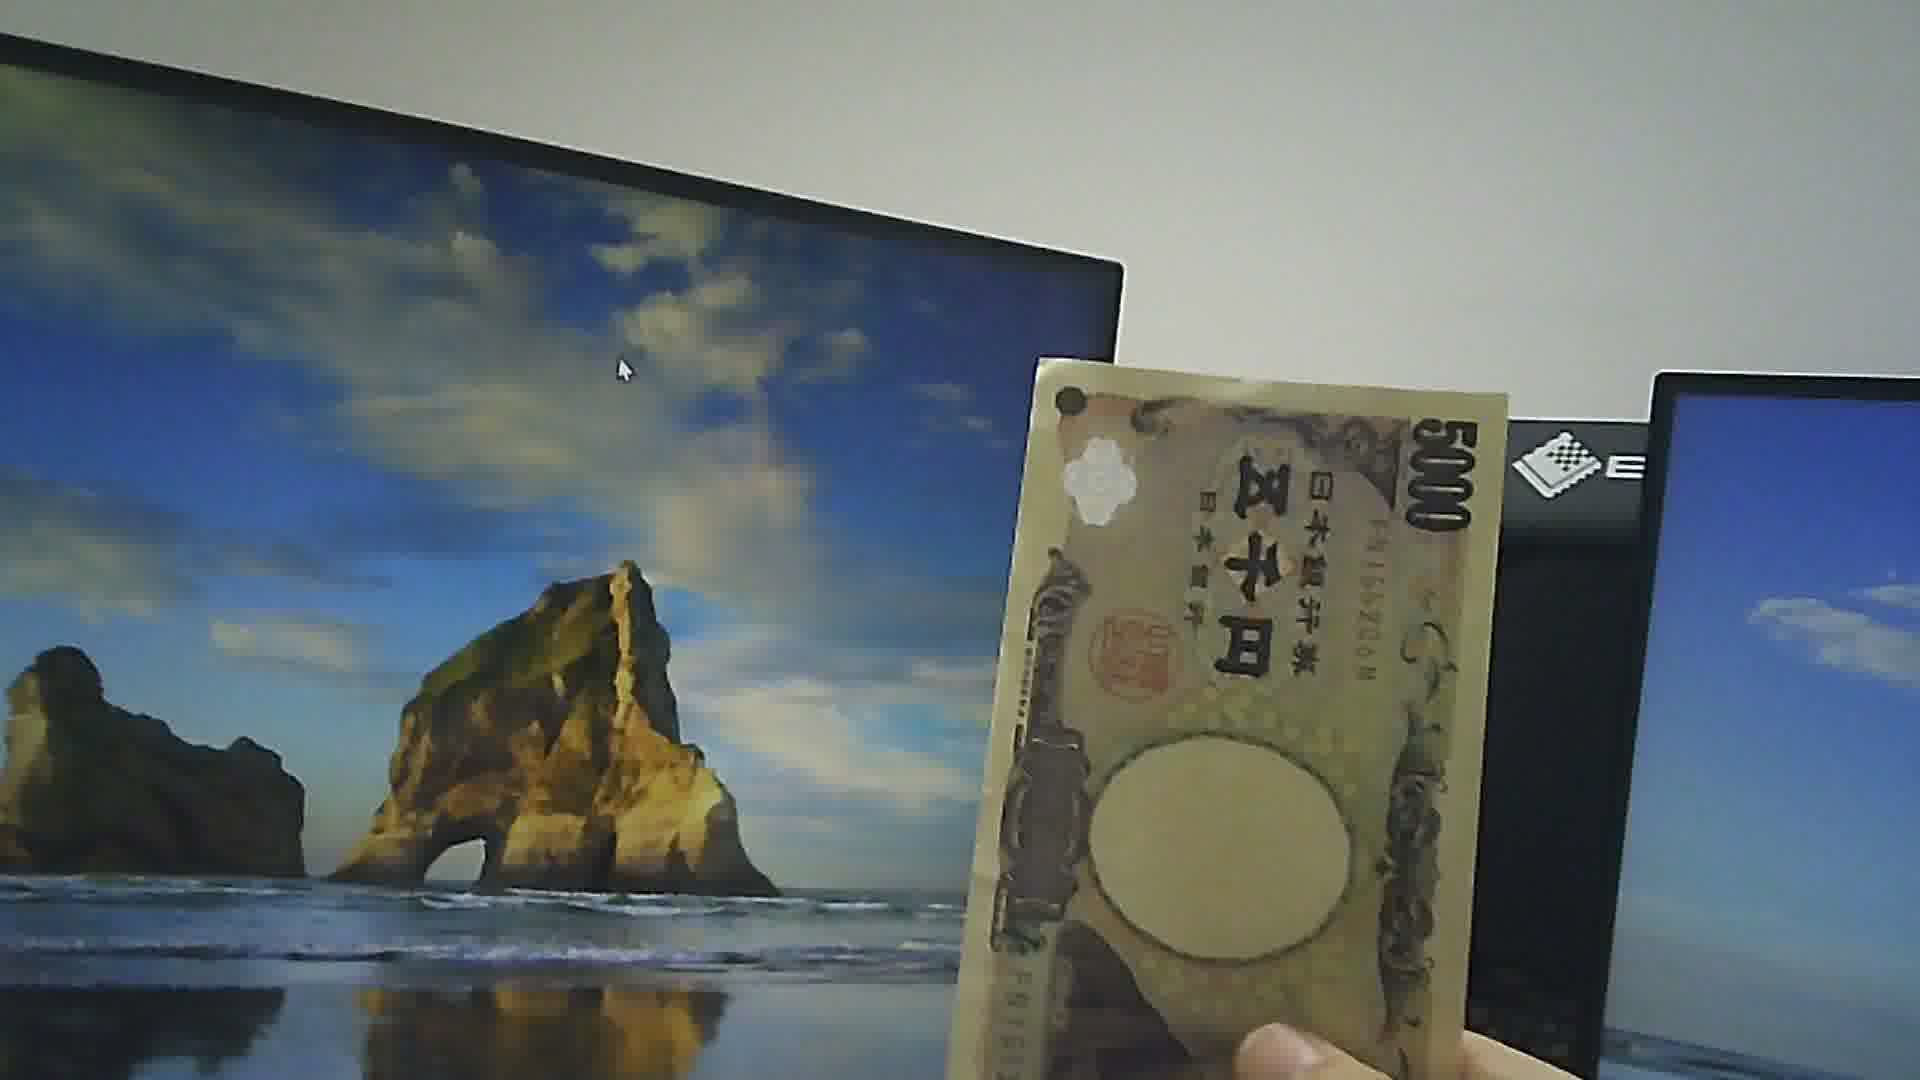5,000 Yen: (955, 352, 1480, 1079)
